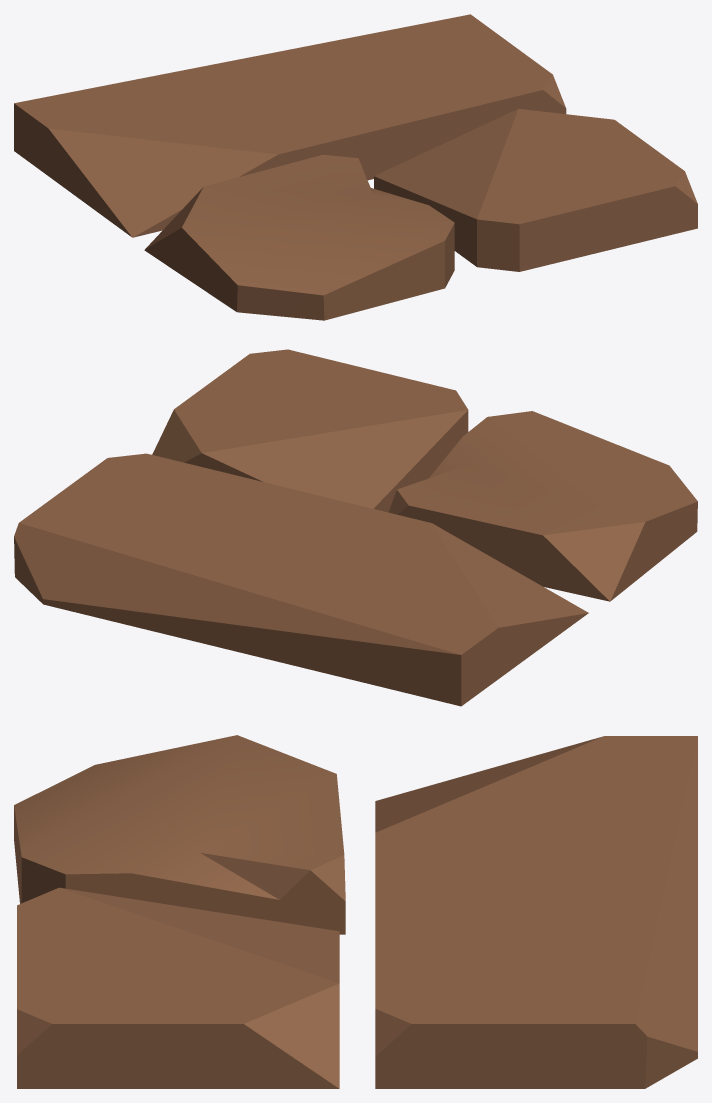
The model's file is Stonewalk_007.FBX.
3 views of the same model, one above another, from view 1: azimuth 30°, elevation 25°; view 2: azimuth 150°, elevation 25°; view 3: azimuth 270°, elevation 25° (orthographic). The views are drawn at different scales.
Visible parts, largest first — view 1: Stonewalk_007; view 2: Stonewalk_007; view 3: Stonewalk_007.
Boxes of the visible parts, x1,y1,x2,y2 form: Stonewalk_007: (14,14,697,320); Stonewalk_007: (14,349,697,706); Stonewalk_007: (14,735,697,1088).
Size of the model in its own units: 37.75 by 3.94 by 37.56.
